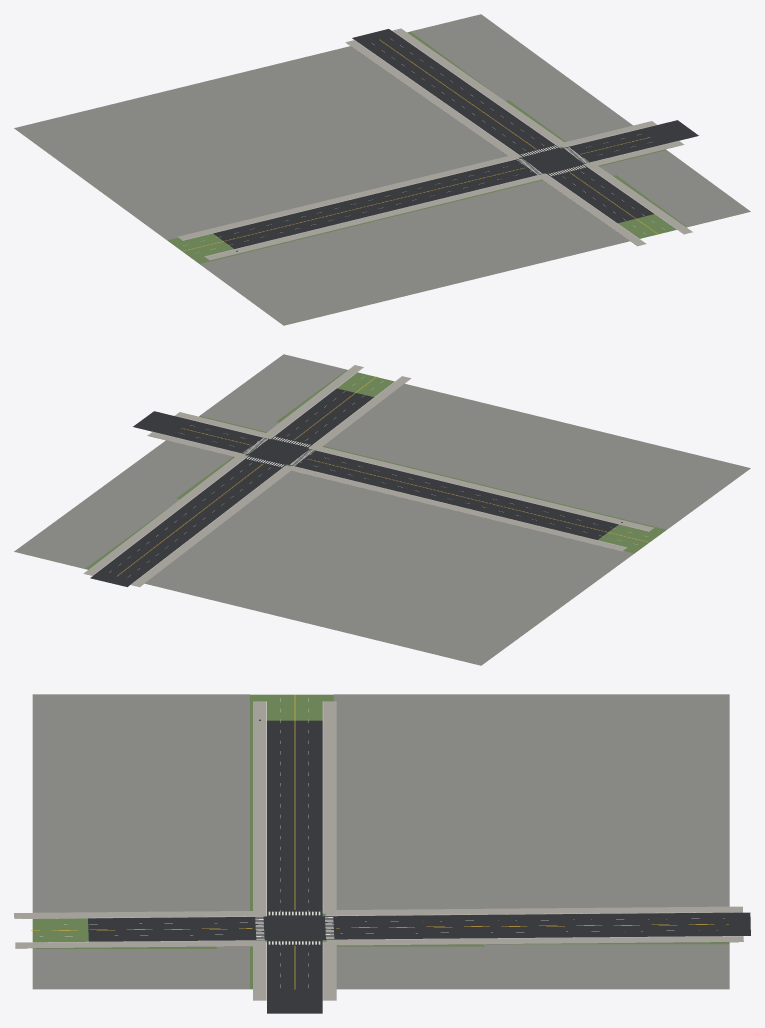
Rendered from Ground_6_1.fbx.
3 views of the same model, one above another, from view 1: azimuth 30°, elevation 25°; view 2: azimuth 150°, elevation 25°; view 3: azimuth 270°, elevation 25° (orthographic). The views are drawn at different scales.
Visible parts, largest first — view 1: Ground_6_1; view 2: Ground_6_1; view 3: Ground_6_1.
Boxes of the visible parts, left/top/right/bottom form: Ground_6_1: left=14, top=14, right=750, bottom=325; Ground_6_1: left=14, top=354, right=750, bottom=665; Ground_6_1: left=14, top=694, right=750, bottom=1013.
Size of the model in its own units: 271 by 0.106 by 264.
